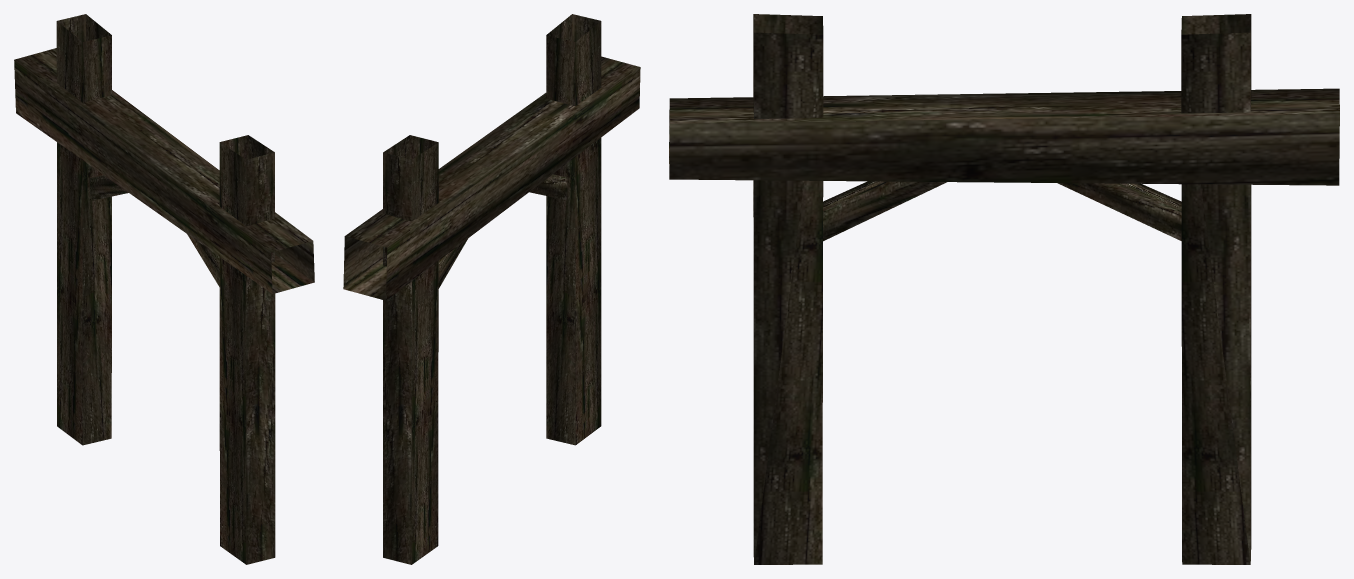
The model's file is GS_MINE_PLANKS_01.glb.
3 renders of one model, left to right at view 1: azimuth 30°, elevation 25°; view 2: azimuth 150°, elevation 25°; view 3: azimuth 270°, elevation 25°, orthographic. The views are drawn at different scales.
Visible parts, largest first — view 1: Mesh; view 2: Mesh; view 3: Mesh.
Part boxes in pixels (x1,y1,x2,y2): Mesh: (14, 14, 314, 564); Mesh: (343, 14, 640, 564); Mesh: (669, 14, 1339, 564).
Size of the model in its own units: 0.6141 by 5.22 by 5.97.
Materials: 1 (1 with a texture image).
